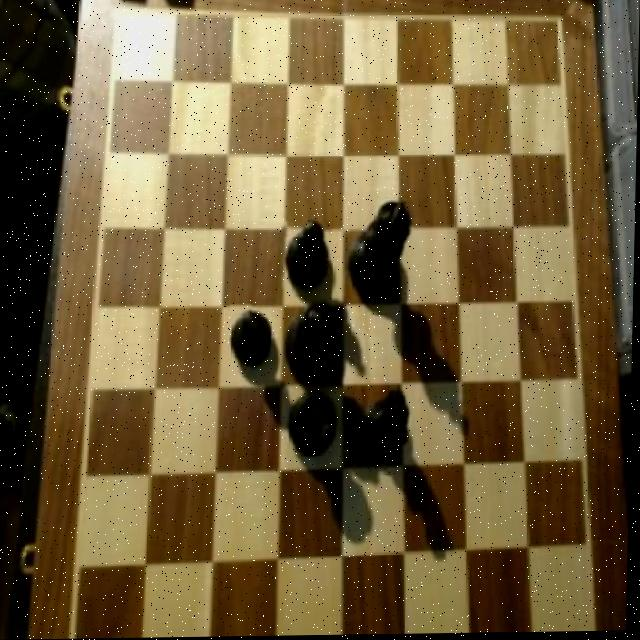bishop: (279, 222, 331, 291)
black-bishop: (343, 198, 416, 306)
black-king: (357, 391, 415, 465)
black-knight: (230, 304, 276, 373)
black-pawn: (284, 298, 349, 393)
black-queen: (285, 384, 344, 463)
